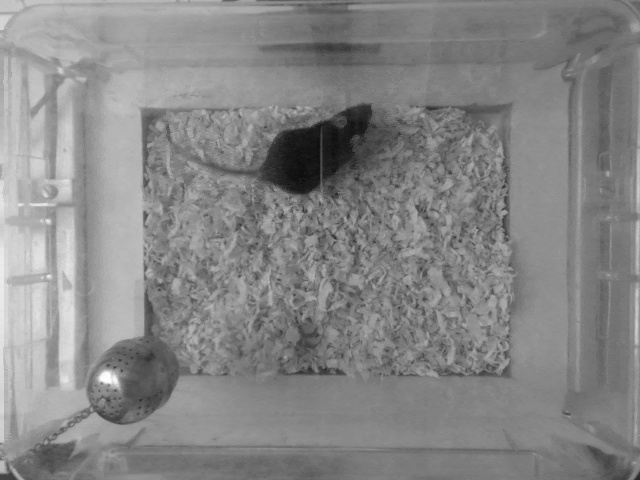mice: (161, 97, 380, 192)
